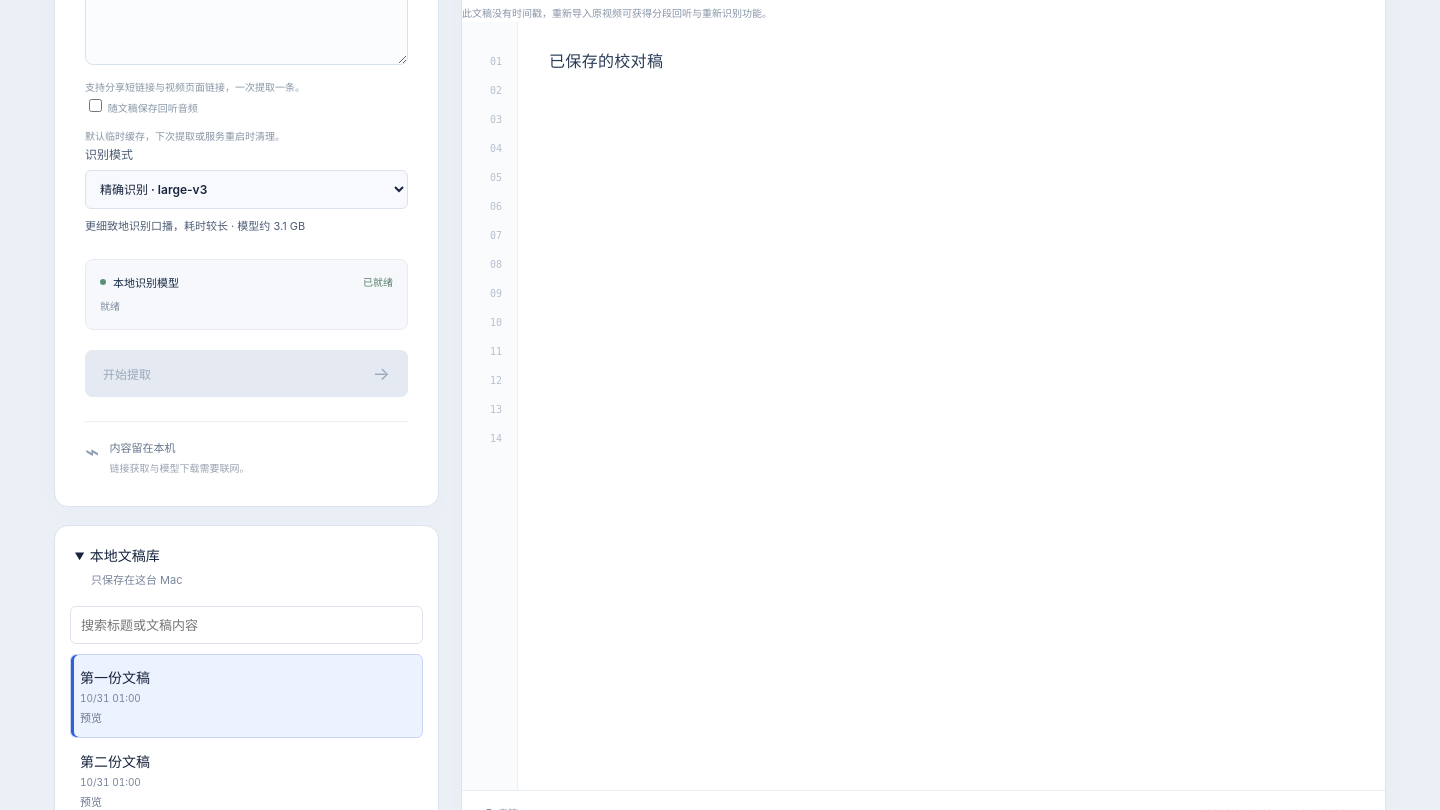
Test case: flushes before switching records
(page scrolled)
Replace the text in the text box named "文稿全文" with "离开前保存" at (952, 406), box [518,22,1385,790]
(page scrolled)
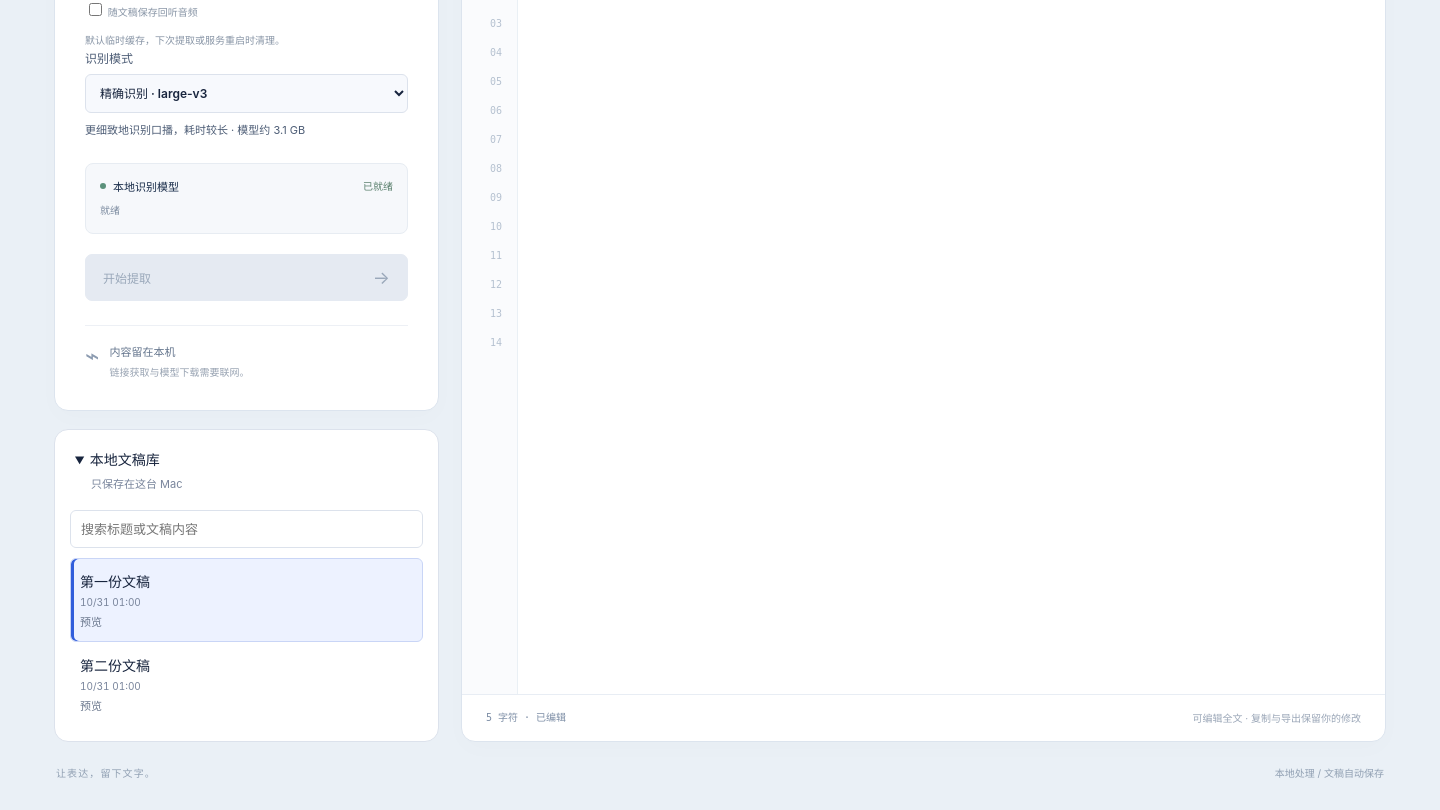
Click the button "第二份文稿 10/31 01:00 预览" at (115, 665), box [70,642,423,726]
(page scrolled)
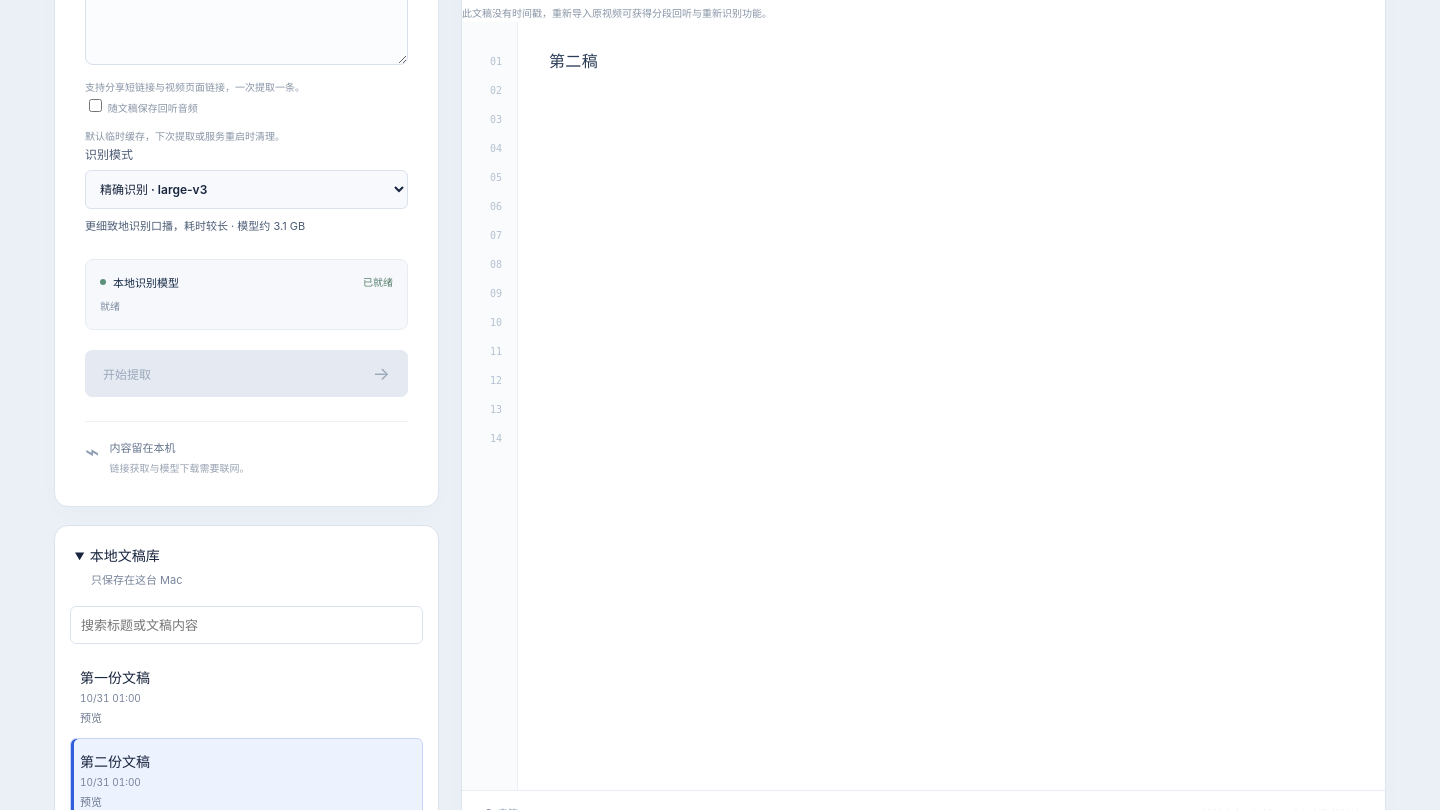
Expected: the text box named "文稿全文" holds "第二稿", [518,22,1385,790]
